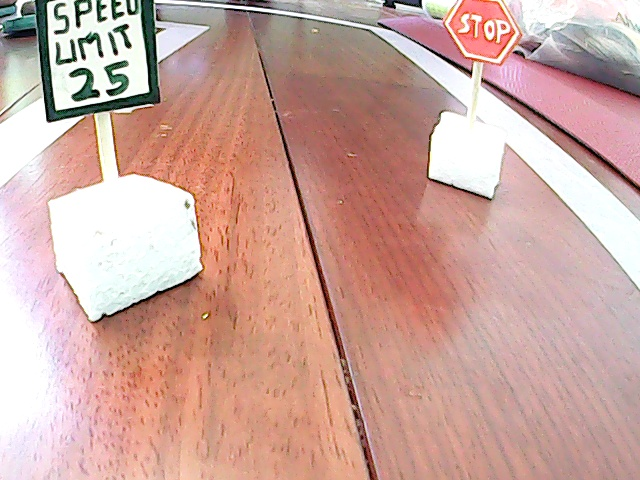speed_25: (24, 1, 214, 315)
stop: (420, 1, 537, 199)
